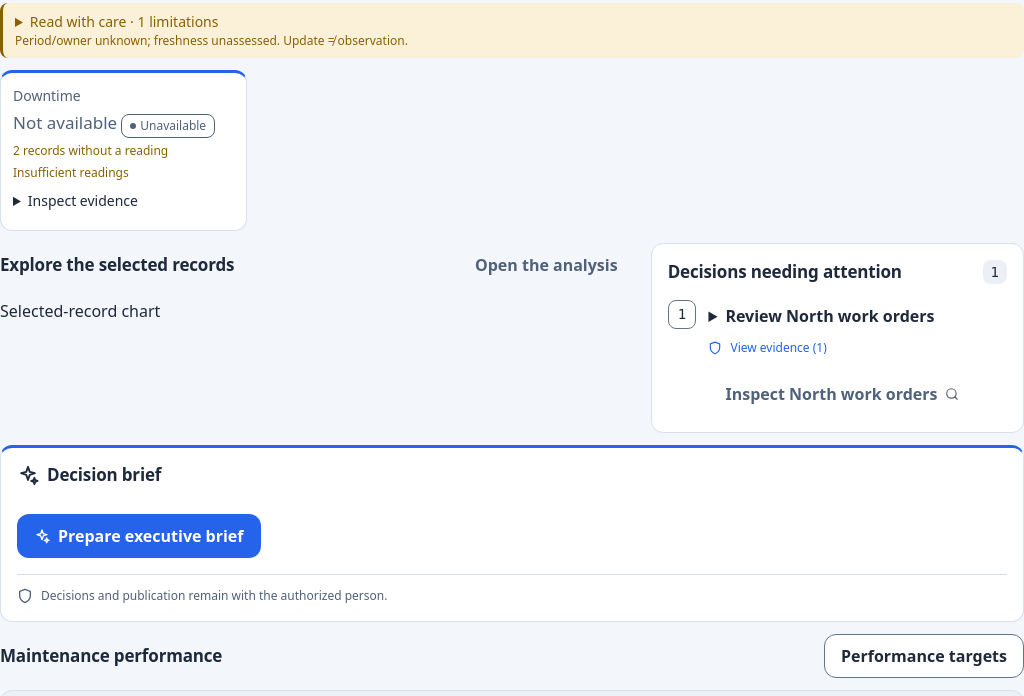
Test: executive decision overview › leads the prepared brief with the maintenance mandate, decisions and source boundaries
Click the button "Prepare executive brief".
click(139, 536)  # box [17,514,260,558]
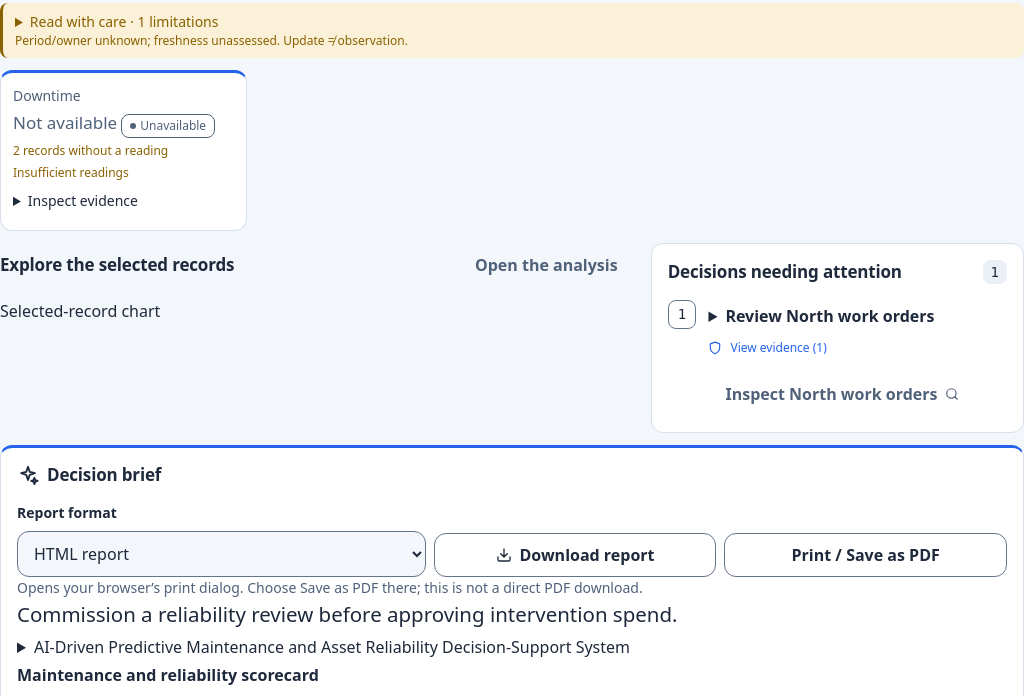
expect the text "Commission a reliability review before approving intervention spend." is shown: met, box [17,600,678,628]
Click the heading "Review North work orders".
click(830, 316)  # box [725,305,934,327]
(page scrolled)
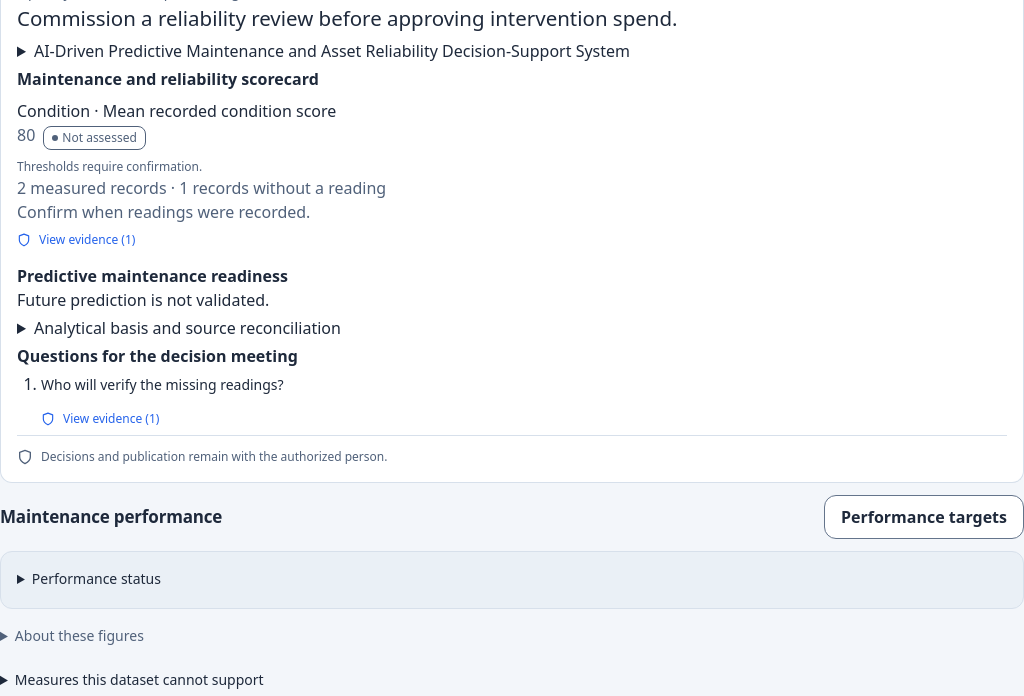
expect the text "Future prediction is not validated." is shown: met, box [17,289,269,311]
Click the heading "Analytical basis and source reconciliation".
click(187, 328)  # box [34,317,341,339]
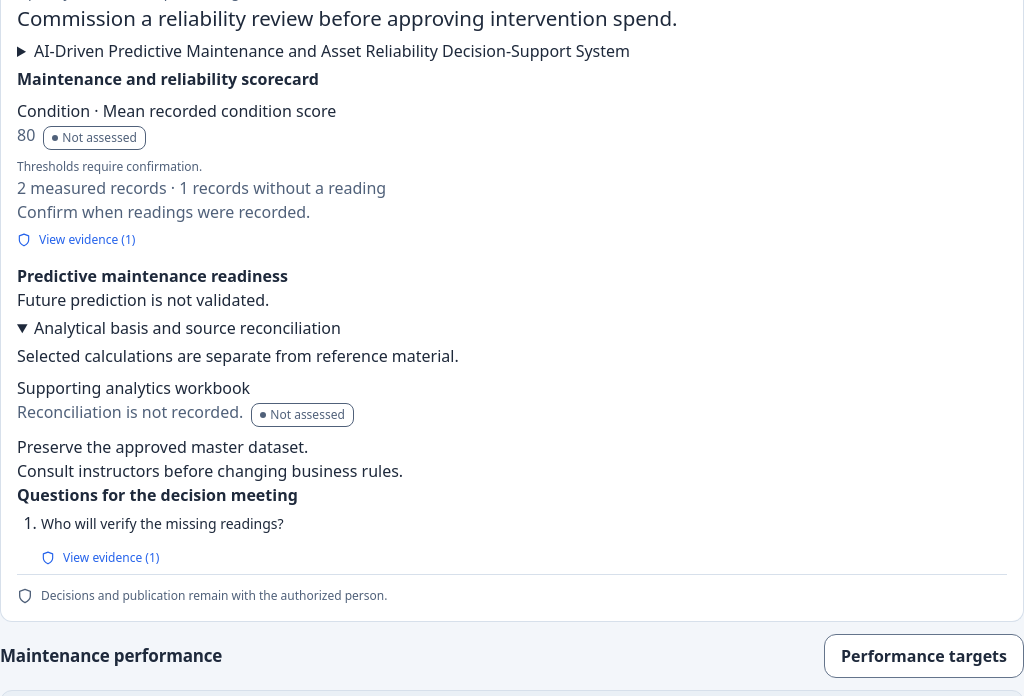
expect the text "Preserve the approved master dataset." is shown: met, box [17,436,308,458]
expect the text "Reconciliation is not recorded." is shown: met, box [17,400,243,424]
expect the text "Consult instructors before changing business rules." is shown: met, box [17,460,403,482]
